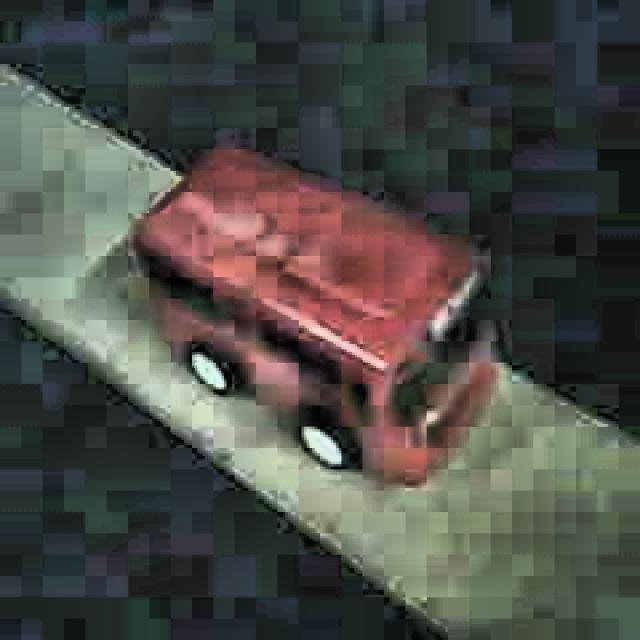bus: (130, 142, 494, 489)
